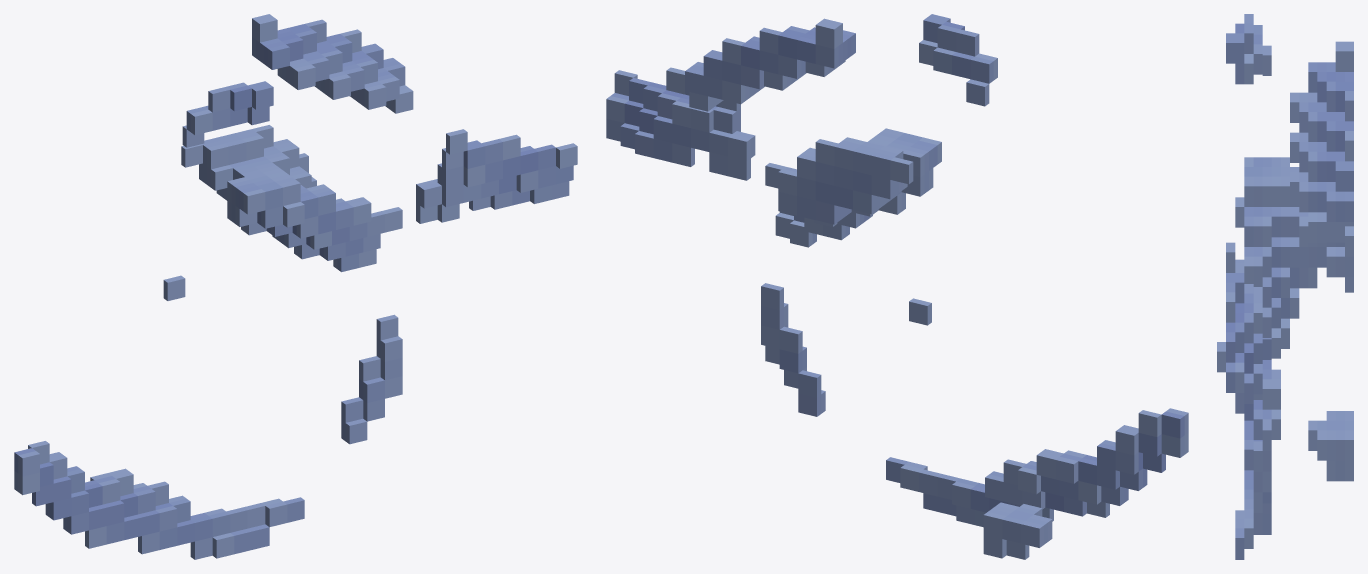
3 renders of one model, left to right at view 1: azimuth 30°, elevation 25°; view 2: azimuth 150°, elevation 25°; view 3: azimuth 270°, elevation 25°, orthographic. The views are drawn at different scales.
Visible parts, largest first — view 1: world; view 2: world; view 3: world.
Part boxes in pixels (box(x1,y1,x2,y2)): world: box(14, 14, 577, 559); world: box(606, 14, 1188, 559); world: box(1217, 14, 1353, 559).
Size of the model in its own units: 4.84 by 4.06 by 0.9375.
